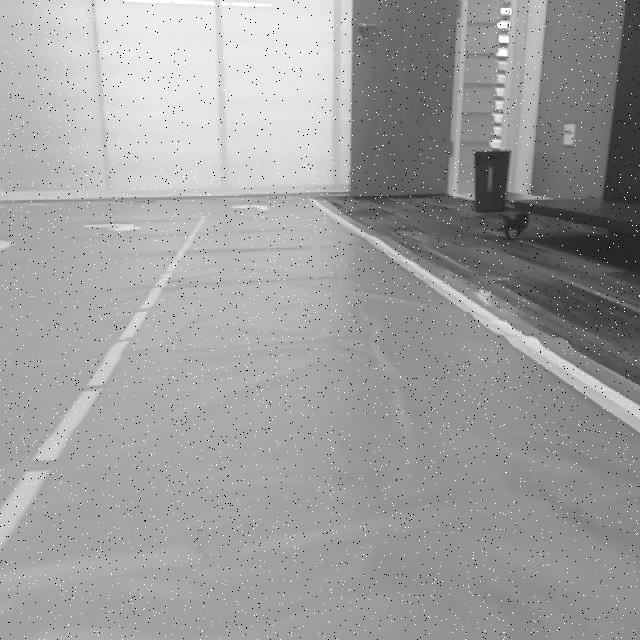left_lane: (0, 217, 204, 550)
right_lane: (311, 201, 640, 435)
